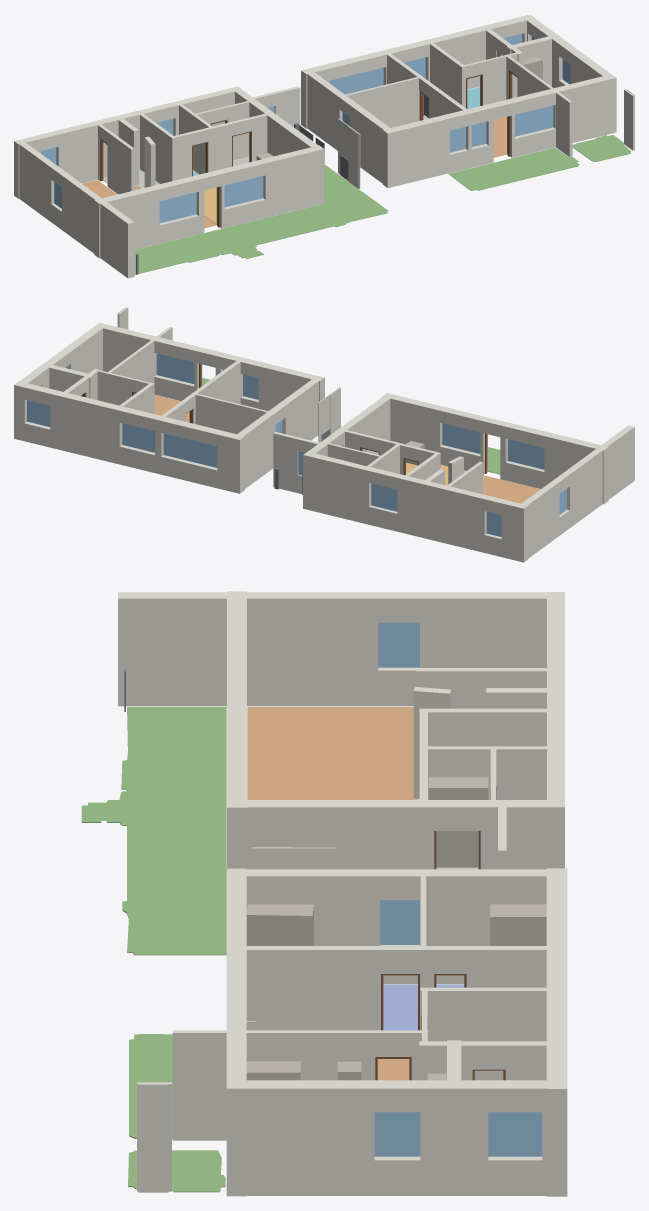
The picture shows the model from 3 angles, top to bottom: view 1: azimuth 30°, elevation 25°; view 2: azimuth 150°, elevation 25°; view 3: azimuth 270°, elevation 25°; orthographic projection. The views are drawn at different scales.
Visible parts, largest first — view 1: walls, floor_14_Outdoor, floor_15_Outdoor, floor_16_Outdoor, window_10, window_12, window_17, window_6, railings, floor_7_Living_Room, floor_0_Living_Room, floor_2_Kitchen; view 2: walls, window_12, floor_0_Living_Room, window_10, window_17, window_6, window_5, window_11, window_13, floor_7_Living_Room; view 3: walls, floor_14_Outdoor, floor_0_Living_Room, furniture_1_closet, furniture_4_closet, floor_15_Outdoor, floor_16_Outdoor, window_2, furniture_0_closet, window_1, window_9, window_8 (+2 smaller).
Part boxes in pixels (x1,y1,x2,y2): walls: (14, 14, 634, 278); floor_14_Outdoor: (134, 164, 388, 274); floor_15_Outdoor: (448, 147, 579, 190); floor_16_Outdoor: (572, 135, 631, 161); window_10: (224, 176, 263, 207); window_12: (329, 67, 383, 94); window_17: (515, 105, 553, 136); window_6: (159, 192, 196, 222); railings: (136, 94, 428, 274); floor_7_Living_Room: (493, 117, 506, 157); floor_0_Living_Room: (82, 180, 216, 228); floor_2_Kitchen: (204, 187, 216, 224); walls: (14, 307, 634, 562); window_12: (163, 433, 217, 467); floor_0_Living_Room: (483, 475, 540, 503); window_10: (442, 423, 480, 453); window_17: (156, 353, 194, 383); window_6: (508, 439, 544, 469); window_5: (122, 423, 154, 452); window_11: (371, 483, 397, 511); window_13: (27, 400, 50, 426); floor_7_Living_Room: (154, 395, 189, 422); walls: (118, 591, 567, 1196); floor_14_Outdoor: (81, 707, 226, 955); floor_0_Living_Room: (247, 707, 417, 799); furniture_1_closet: (428, 777, 488, 867); furniture_4_closet: (246, 904, 313, 945); floor_15_Outdoor: (129, 1034, 172, 1139); floor_16_Outdoor: (128, 1150, 225, 1192); window_2: (488, 1112, 542, 1156); furniture_0_closet: (490, 904, 546, 945); window_1: (374, 1112, 420, 1156); window_9: (378, 622, 419, 667); window_8: (380, 900, 419, 944).
Size of the model in its own units: 26.76 by 2.72 by 11.05.
